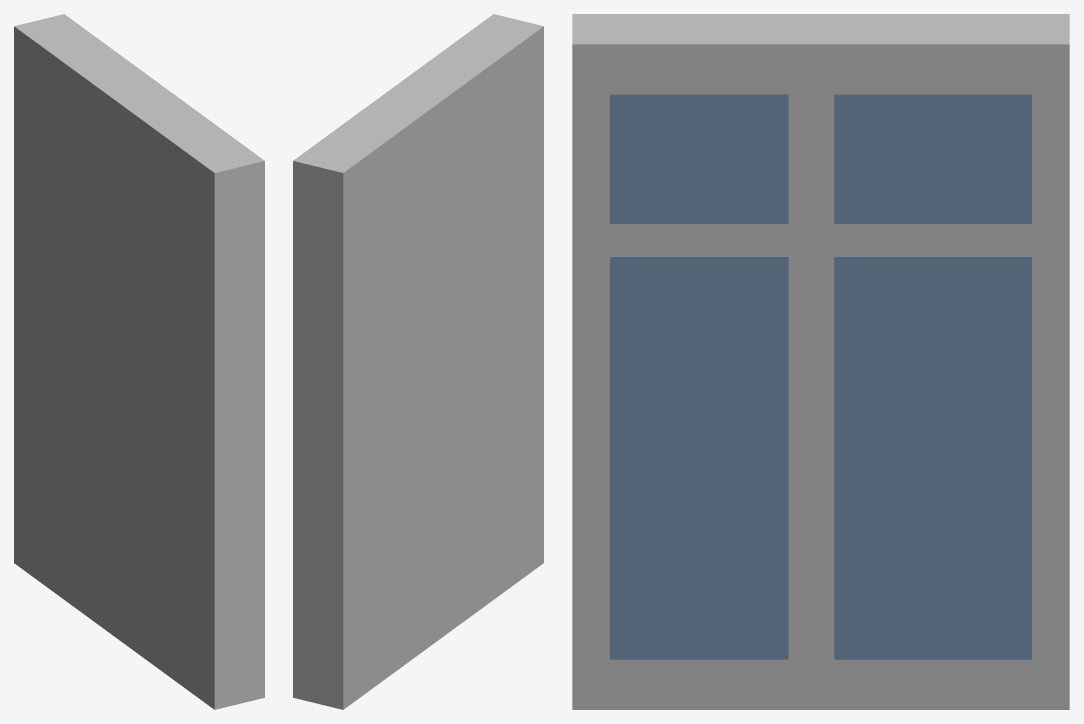
Rendered from fake_window.gltf.
3 views of the same model, side by side, from view 1: azimuth 30°, elevation 25°; view 2: azimuth 150°, elevation 25°; view 3: azimuth 270°, elevation 25° (orthographic). The views are drawn at different scales.
Visible parts, largest first — view 1: Cube; view 2: Cube; view 3: Cube.
Part boxes in pixels (left/top/right/bottom): Cube: left=14, top=14, right=264, bottom=709; Cube: left=293, top=14, right=543, bottom=709; Cube: left=572, top=14, right=1069, bottom=709.
Size of the model in its own units: 0.2892 by 2.95 by 2.
